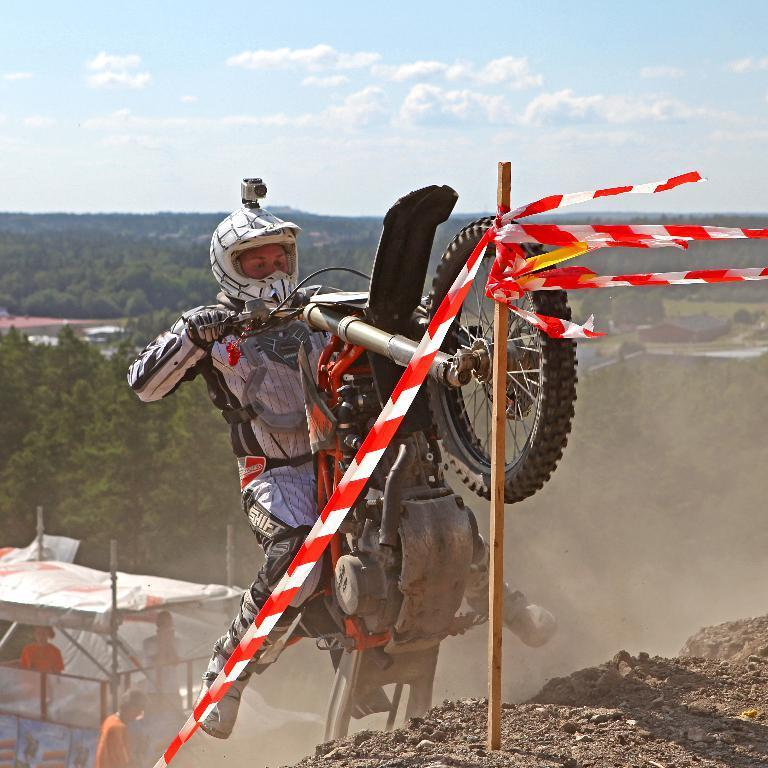helmet: (209, 205, 304, 318)
